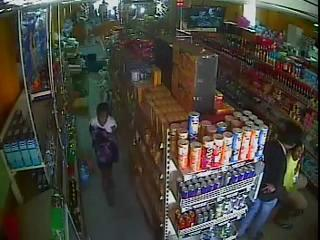Normal: (89, 103, 120, 192)
